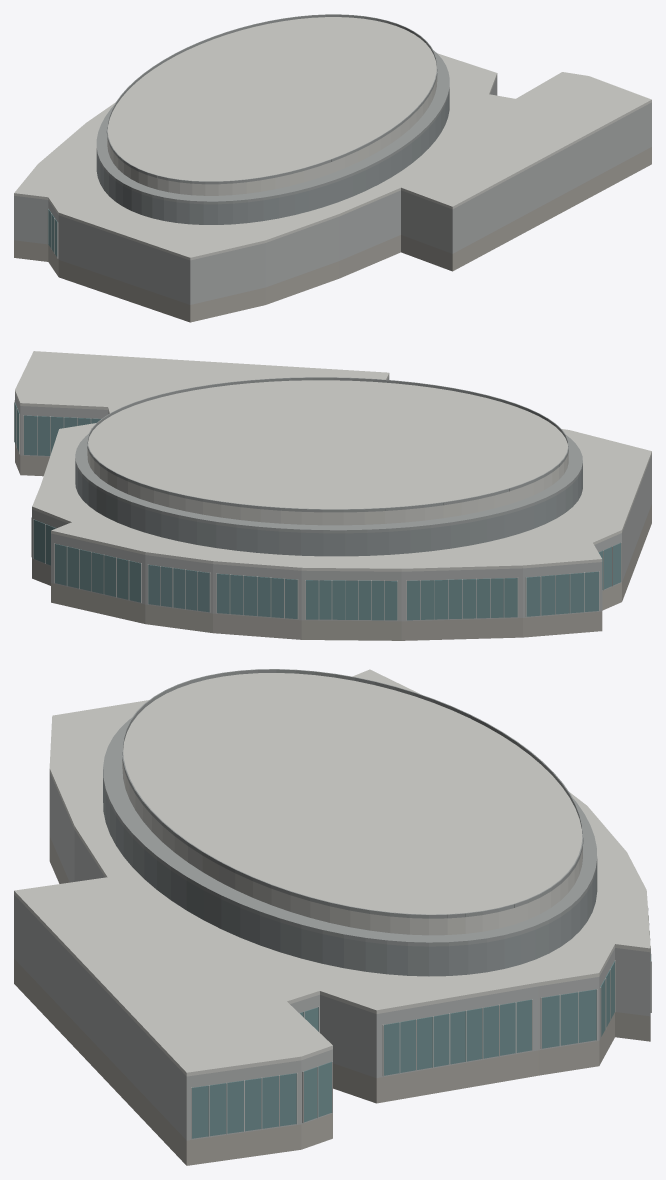
File: matthew-knight-arena-massing-review-2026-11-23.glb
The picture shows the model from 3 angles, top to bottom: view 1: azimuth 30°, elevation 25°; view 2: azimuth 150°, elevation 25°; view 3: azimuth 270°, elevation 25°; orthographic projection. The views are drawn at different scales.
Parts seen in each view (by area): view 1: context-b0074; view 2: context-b0074; view 3: context-b0074.
Part boxes in pixels (bbox=[...]): context-b0074: bbox=[14, 14, 651, 322]; context-b0074: bbox=[14, 351, 651, 640]; context-b0074: bbox=[14, 669, 651, 1165].
Bounding box in the file's own units: 181 × 30.9 × 121.
